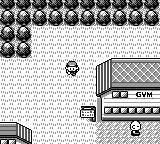leer: (80, 107, 96, 122)
main: (64, 61, 80, 75)
no-caminable: (97, 58, 159, 121), (1, 123, 31, 143)
npc: (130, 121, 142, 136)
